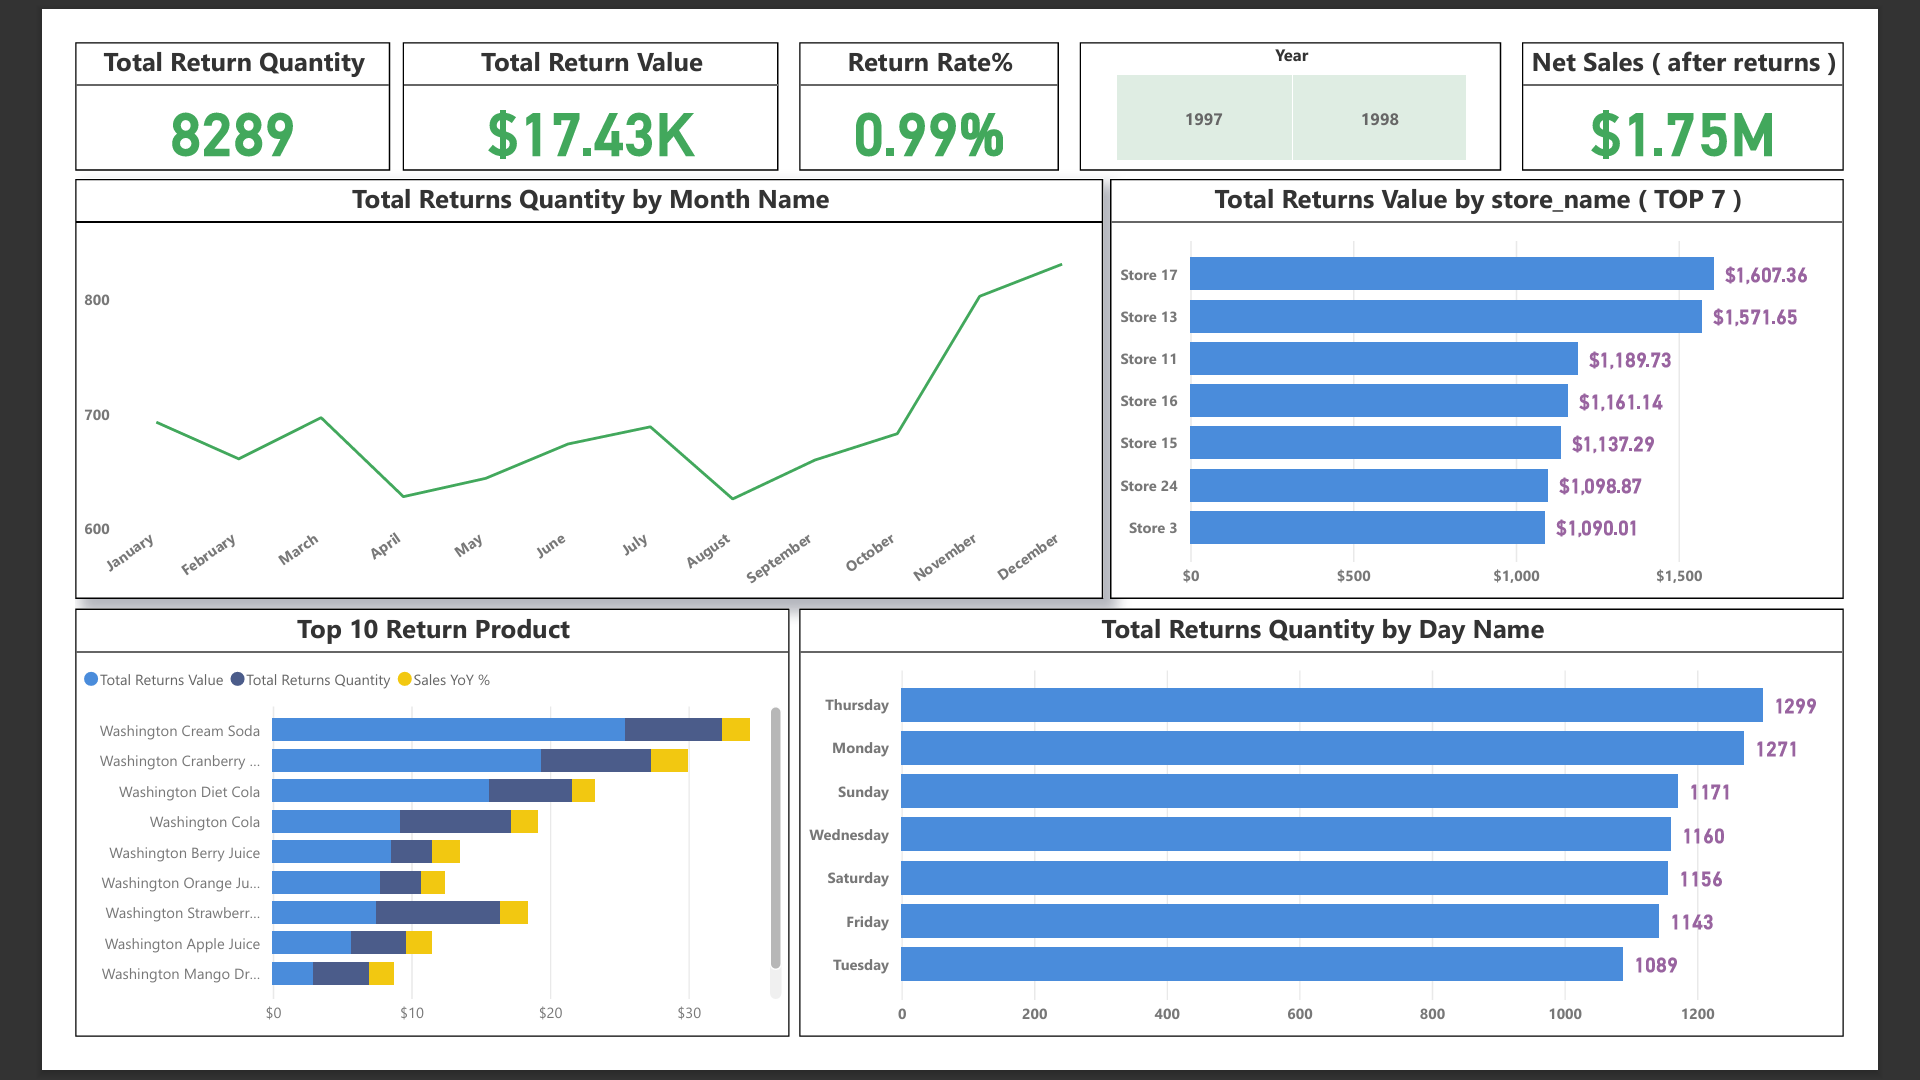

Layout of this report page (visuals, bound fields, positions):
{"tool":"powerbi","page":{"name":"Returns Analysis","canvas":[1280,720],"ordinal":2},"visuals":[{"type":"card","title":"Net Sales ( after returns )","fields":{"Values":["Returns_Detailed.Net Sales (After Returns)"]},"box":[1047,0,233.3,93.3],"z":0},{"type":"card","title":"Return Rate%","fields":{"Values":["Returns_Detailed.Return Rate %"]},"box":[524.2,0,188,93.3],"z":1000},{"type":"card","title":"Total Return Value","fields":{"Values":["Returns_Detailed.Total Returns Value"]},"box":[237.4,0,271.7,93.3],"z":2000},{"type":"card","title":"Total Return Quantity","fields":{"Values":["Returns_Detailed.Total Returns Quantity"]},"box":[0,0,227.8,93.3],"z":3000},{"type":"lineChart","fields":{"Y":["Returns_Detailed.Total Returns Quantity"],"Category":["Returns_Detailed.Month Name"]},"box":[0,98.8,743.7,304.6],"z":4000},{"type":"barChart","title":"Top 10 Return Product","fields":{"Category":["product details.product_name"],"Y":["Returns_Detailed.Total Returns Value","Returns_Detailed.Total Returns Quantity","Returns_Detailed.Sales YoY %"]},"box":[0,410.3,517.3,310.1],"z":5000},{"type":"barChart","title":"Total Returns Value by store_name ( TOP 7 )","fields":{"Y":["Returns_Detailed.Total Returns Value"],"Category":["store details.store_name"]},"box":[749.2,98.8,531,304.6],"z":6000},{"type":"barChart","fields":{"Category":["Returns_Detailed.Day Name"],"Y":["Returns_Detailed.Total Returns Quantity"]},"box":[524.2,410.3,756.1,310.1],"z":7000},{"type":"slicer","title":"Year","fields":{"Values":["market calender.Year"]},"box":[727.3,0,304.6,93.3],"z":8000}]}

Visuals, with their boxes in screenshot pixels (x1, y1, x2, y2), scaled from the page's 1280x720 canvas onto the 1920x1080 screenshot:
"Net Sales ( after returns )" card: bbox(1570, 0, 1919, 140)
"Return Rate%" card: bbox(786, 0, 1068, 140)
"Total Return Value" card: bbox(356, 0, 764, 140)
"Total Return Quantity" card: bbox(0, 0, 342, 140)
lineChart - Returns_Detailed.Total Returns Quantity x Returns_Detailed.Month Name: bbox(0, 148, 1116, 605)
"Top 10 Return Product" barChart: bbox(0, 615, 776, 1079)
"Total Returns Value by store_name ( TOP 7 )" barChart: bbox(1124, 148, 1919, 605)
barChart - Returns_Detailed.Day Name x Returns_Detailed.Total Returns Quantity: bbox(786, 615, 1919, 1079)
"Year" slicer: bbox(1091, 0, 1548, 140)
